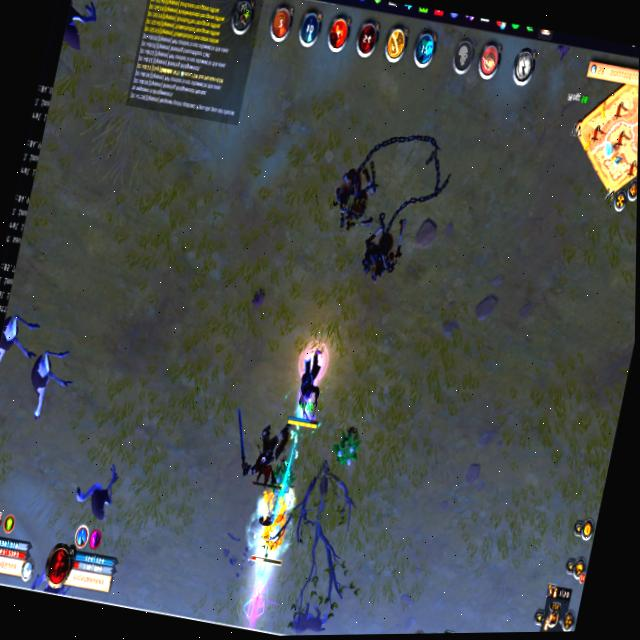hide: (328, 417, 366, 477), (262, 457, 299, 505)
mob: (21, 337, 82, 430), (0, 311, 46, 397)
ore: (220, 407, 301, 500), (244, 480, 303, 575), (69, 458, 128, 529)
red: (282, 338, 336, 438)
